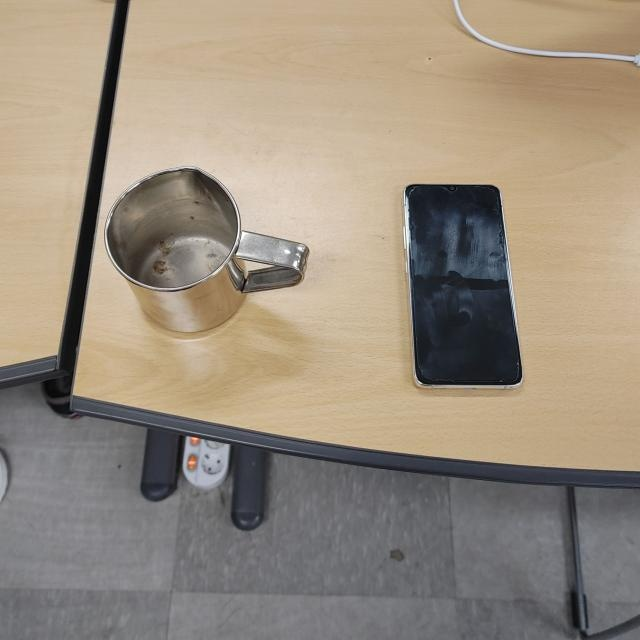cup: (104, 163, 312, 338)
phone: (403, 181, 525, 393)
